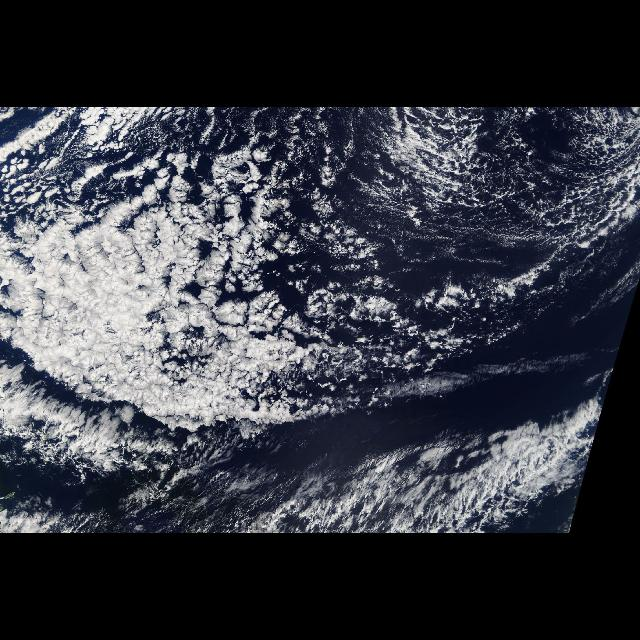Fish: (288, 442, 594, 506)
Gravel: (411, 107, 639, 220)
Sugar: (311, 118, 625, 392)
